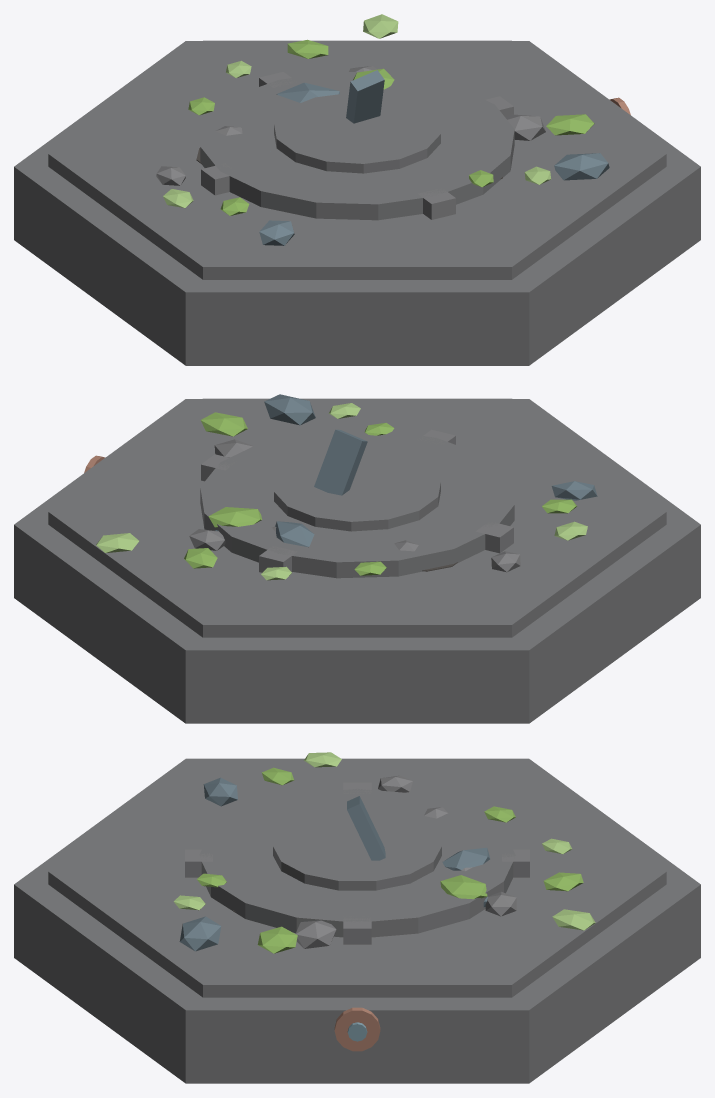
File: shield_emitter_s2_ruin.glb
The picture shows the model from 3 angles, top to bottom: view 1: azimuth 30°, elevation 25°; view 2: azimuth 150°, elevation 25°; view 3: azimuth 270°, elevation 25°; orthographic projection.
Visible parts, largest first — view 1: SE_Base; view 2: SE_Base; view 3: SE_Base.
Part boxes in pixels (left/top/right/bottom): SE_Base: left=14, top=14, right=700, bottom=365; SE_Base: left=14, top=394, right=700, bottom=723; SE_Base: left=14, top=752, right=700, bottom=1083.
Size of the model in its own units: 3.45 by 1.03 by 3.9.
